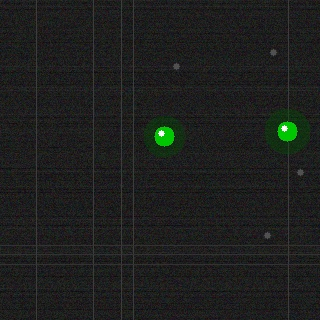green_normal: (152, 124, 176, 148), (275, 119, 299, 143)
